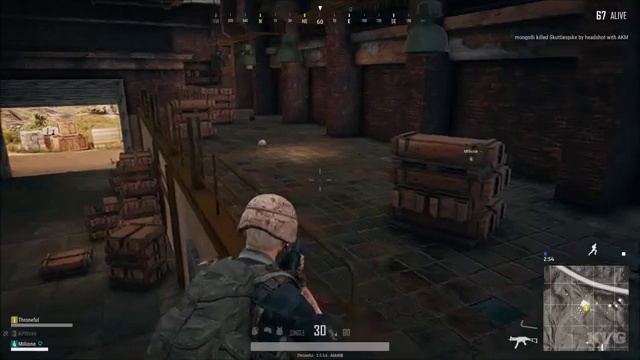Player: (152, 188, 345, 317)
